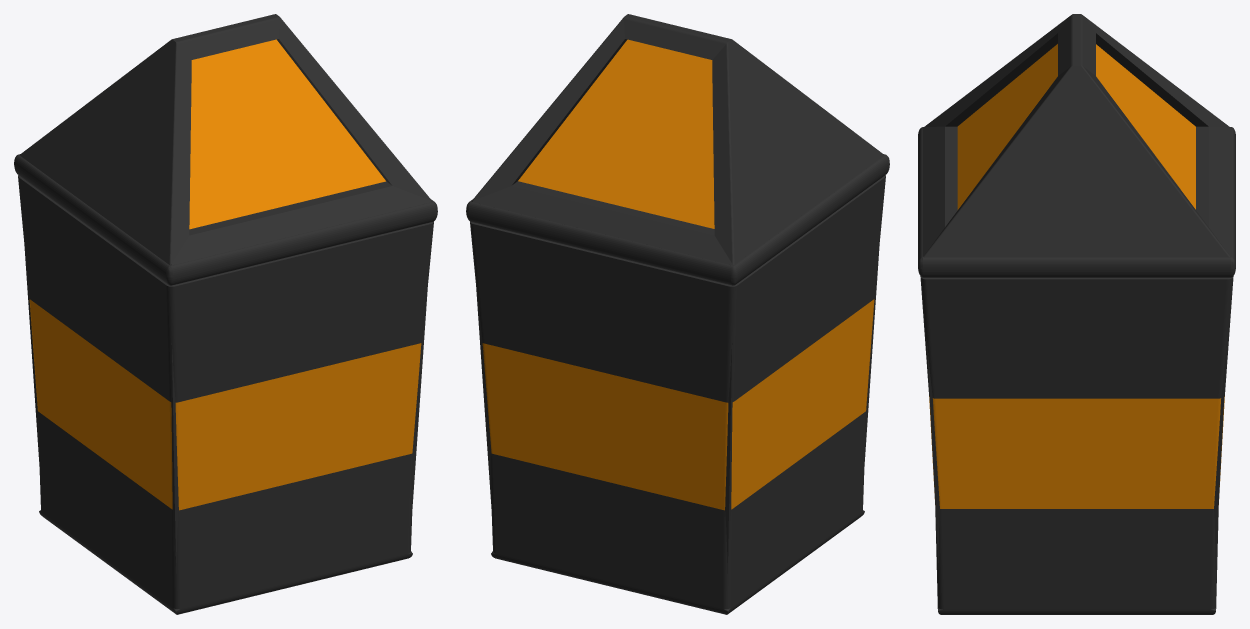
File: Bin.fbx
3 renders of one model, left to right at view 1: azimuth 30°, elevation 25°; view 2: azimuth 150°, elevation 25°; view 3: azimuth 270°, elevation 25°, orthographic.
Parts seen in each view (by area): view 1: bin.002; view 2: bin.002; view 3: bin.002.
Part boxes in pixels (bbox=[...]): bin.002: bbox=[14, 14, 437, 614]; bin.002: bbox=[466, 14, 889, 614]; bin.002: bbox=[918, 14, 1235, 614].
Size of the model in its own units: 38.66 by 69.44 by 38.66.
